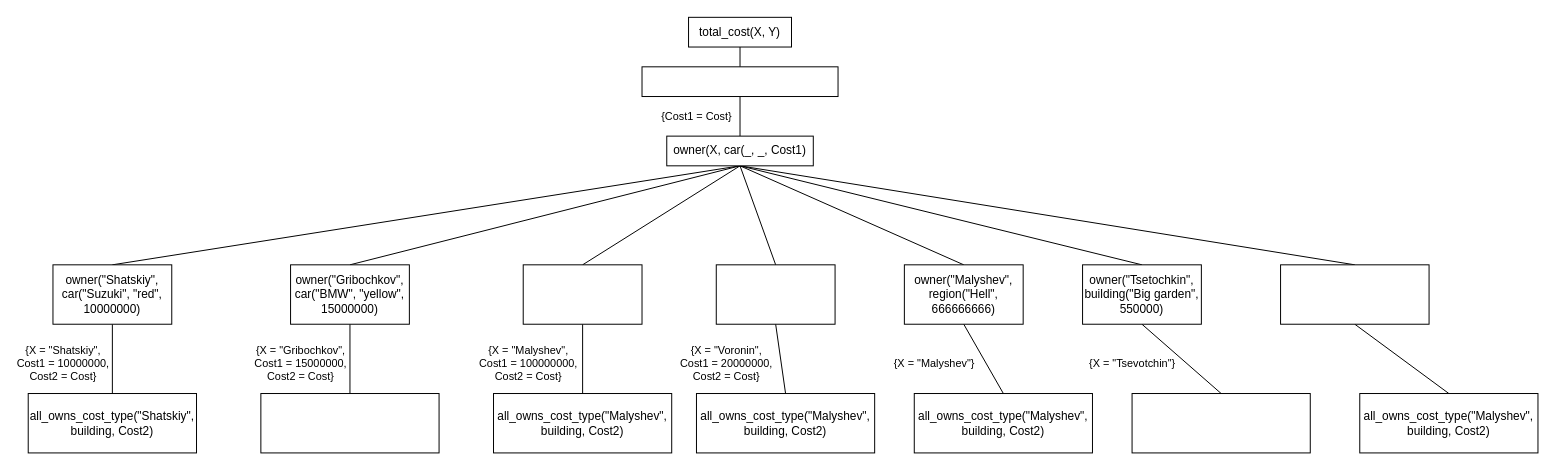
The diagram is 1555 pixels wide and 470 high, and some of its shapes have lost their labels. Here are the shapes that lost their labels. From the top down, the box of each, then its label:
(641, 66, 838, 97): all_owns_cost_type(X, car, Cost1)
(522, 264, 642, 324): owner("Malyshev", car("Highwayman", "gray", 100000000)
(715, 264, 835, 324): owner("Voronin", car("Volga", "black", 20000000)
(1280, 264, 1429, 324): owner("Gribochkov", water_transport("Boatalia", "pink", 55555555)
(260, 393, 439, 453): all_owns_cost_type("Gribochkov", building, Cost2)
(1131, 393, 1310, 453): all_owns_cost_type("Tsetochkin", building, Cost1)
